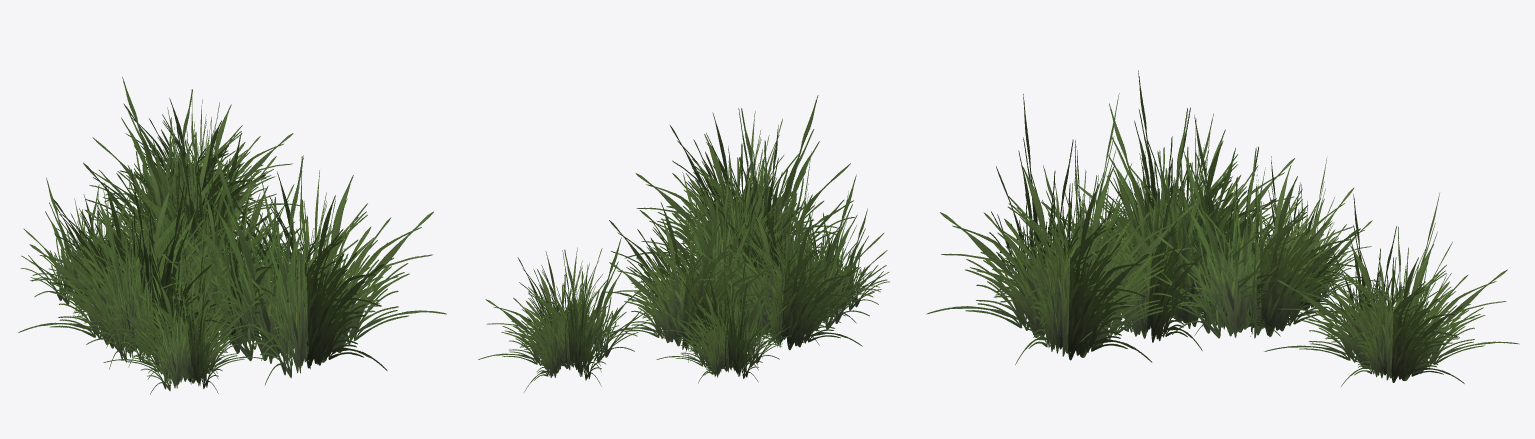
The model's file is grass.glb.
3 renders of one model, left to right at view 1: azimuth 30°, elevation 25°; view 2: azimuth 150°, elevation 25°; view 3: azimuth 270°, elevation 25°, orthographic. The views are drawn at different scales.
Parts seen in each view (by area): view 1: Object_2; view 2: Object_2; view 3: Object_2.
Boxes of the visible parts, x1,y1,x2,y2 form: Object_2: (18,77,446,394); Object_2: (478,95,889,392); Object_2: (926,70,1519,386).
Size of the model in its own units: 3.12 by 2.39 by 4.49.
1 material, 1 textured.
